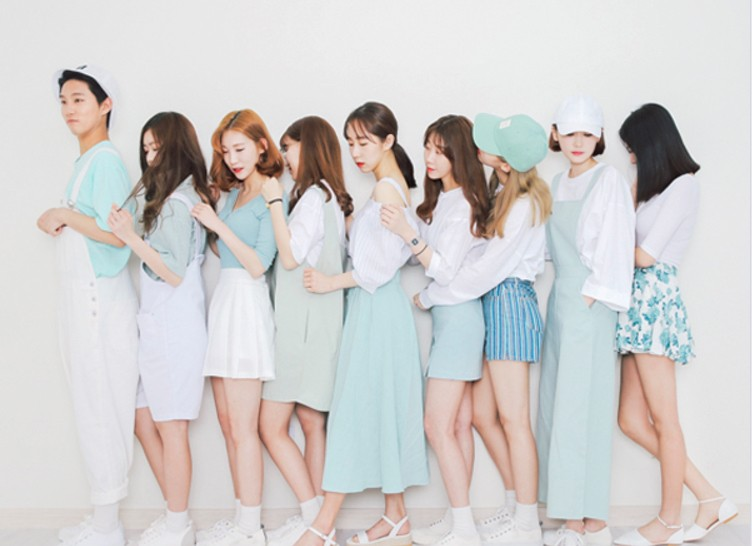people: (44, 64, 135, 546), (471, 107, 558, 546), (616, 101, 699, 546), (137, 107, 214, 546), (341, 92, 415, 546), (549, 98, 621, 546), (210, 105, 279, 546), (420, 112, 488, 546), (280, 118, 338, 546)
